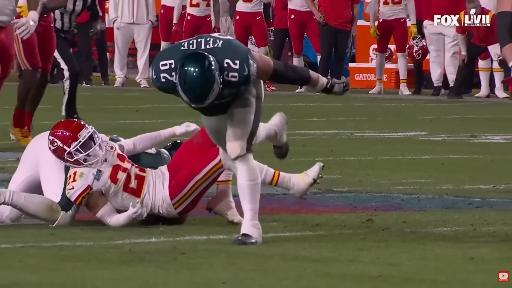Helmet: (48, 120, 105, 167), (177, 52, 221, 107), (407, 35, 428, 62), (164, 141, 182, 158), (385, 48, 394, 63)
Jersey: (151, 34, 256, 116), (66, 142, 176, 217), (128, 148, 170, 169), (379, 0, 409, 19), (0, 0, 17, 26), (187, 0, 211, 16), (236, 0, 263, 11), (288, 0, 310, 10), (480, 0, 496, 11), (220, 0, 230, 17), (161, 0, 180, 6)
Player: (152, 34, 349, 244), (48, 120, 234, 225), (12, 0, 66, 145), (0, 132, 77, 225), (8, 132, 76, 225), (449, 0, 501, 98), (369, 0, 417, 94), (288, 0, 321, 66), (234, 0, 269, 55), (475, 50, 509, 98), (0, 0, 17, 92), (183, 0, 220, 39), (159, 0, 181, 50), (496, 0, 511, 68), (172, 0, 187, 42)
